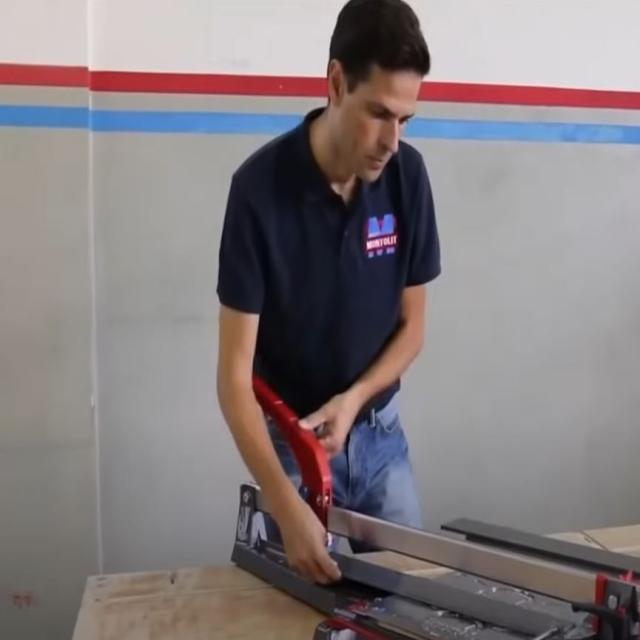bare_hand: (269, 498, 348, 587), (295, 387, 358, 462)
